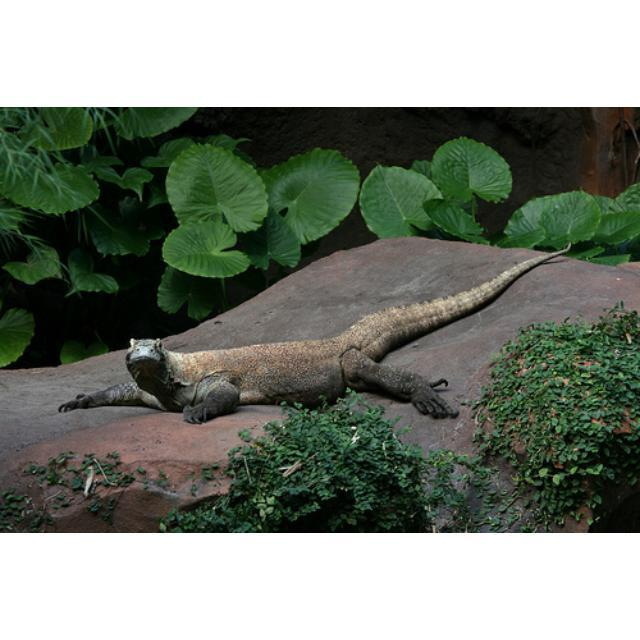KomodoDragon: (54, 245, 580, 420)
